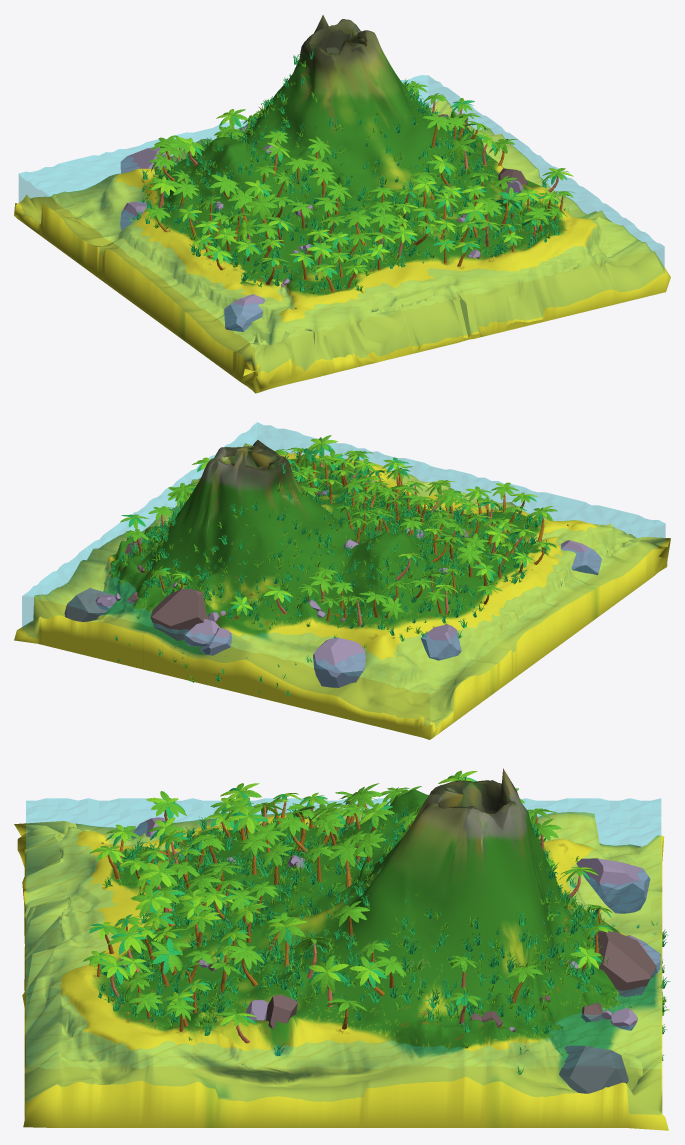
File: Island_project2_export_compressed.glb
3 renders of one model, top to bottom at view 1: azimuth 30°, elevation 25°; view 2: azimuth 150°, elevation 25°; view 3: azimuth 270°, elevation 25°, orthographic. The views are drawn at different scales.
Parts seen in each view (by area): view 1: Plane, Plane.001, Icosphere.003, Icosphere.002; view 2: Plane, Plane.001, Icosphere.002, Icosphere, Icosphere.001, Icosphere.040, Icosphere.003, Icosphere.032, Icosphere.031; view 3: Plane, Plane.001, Icosphere.002, Icosphere, Icosphere.040, Plane.039, Plane.071, Icosphere.028, Plane.041, Plane.093, Plane.097, Plane.037 (+8 smaller).
Boxes of the visible parts, left/top/right/bottom form: Plane: left=14, top=15, right=670, bottom=393; Plane.001: left=19, top=75, right=664, bottom=372; Icosphere.003: left=224, top=294, right=264, bottom=331; Icosphere.002: left=120, top=147, right=167, bottom=173; Plane: left=14, top=440, right=670, bottom=739; Plane.001: left=22, top=422, right=665, bottom=727; Icosphere.002: left=313, top=637, right=365, bottom=687; Icosphere: left=150, top=589, right=207, bottom=640; Icosphere.001: left=420, top=624, right=461, bottom=660; Icosphere.040: left=64, top=588, right=114, bottom=621; Icosphere.003: left=560, top=540, right=601, bottom=575; Icosphere.032: left=183, top=619, right=219, bottom=646; Icosphere.031: left=200, top=628, right=232, bottom=655; Plane: left=14, top=768, right=668, bottom=1130; Plane.001: left=26, top=798, right=660, bottom=1114; Icosphere.002: left=576, top=858, right=650, bottom=913; Icosphere: left=593, top=930, right=656, bottom=997; Icosphere.040: left=559, top=1045, right=628, bottom=1093; Plane.039: left=308, top=955, right=348, bottom=1007; Plane.071: left=151, top=938, right=182, bottom=986; Icosphere.028: left=266, top=994, right=297, bottom=1029; Plane.041: left=108, top=925, right=147, bottom=972; Plane.093: left=131, top=884, right=175, bottom=926; Plane.097: left=266, top=916, right=307, bottom=967; Plane.037: left=223, top=939, right=264, bottom=986.
Bounding box in the file's own units: 12.12 × 5.36 × 12.14.
13 materials, 1 textured.
